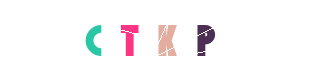C: (53, 0, 133, 80)
K: (120, 0, 200, 80)
P: (164, 0, 244, 80)
T: (112, 0, 192, 80)
